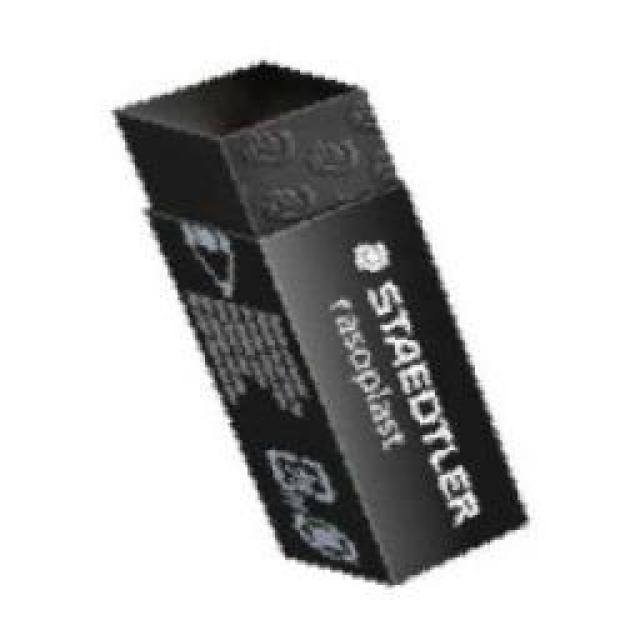Silgi: (108, 60, 530, 590)
